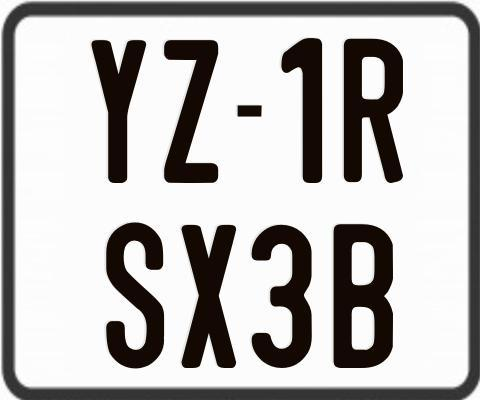1: (279, 37, 322, 182)
3: (249, 224, 313, 371)
B: (331, 223, 394, 369)
R: (341, 39, 406, 187)
S: (106, 219, 169, 370)
X: (181, 224, 237, 370)
Y: (89, 37, 148, 186)
Z: (164, 38, 222, 184)
